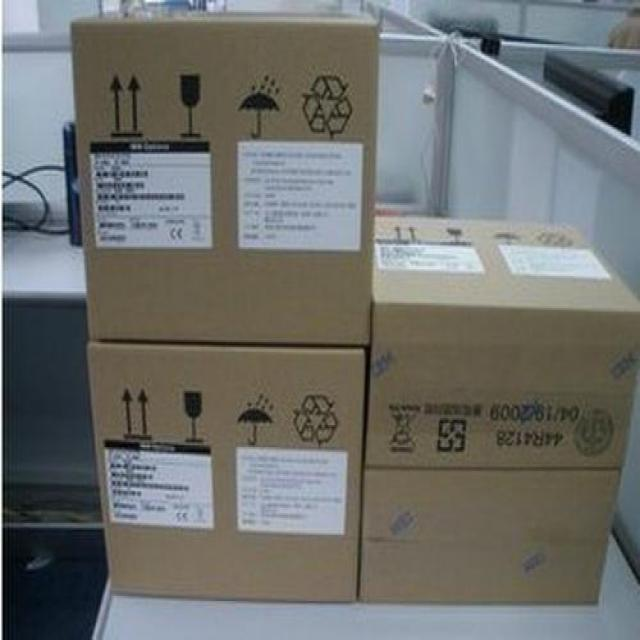box: (67, 3, 383, 352), (80, 329, 363, 602), (363, 210, 640, 472), (355, 454, 619, 612)
